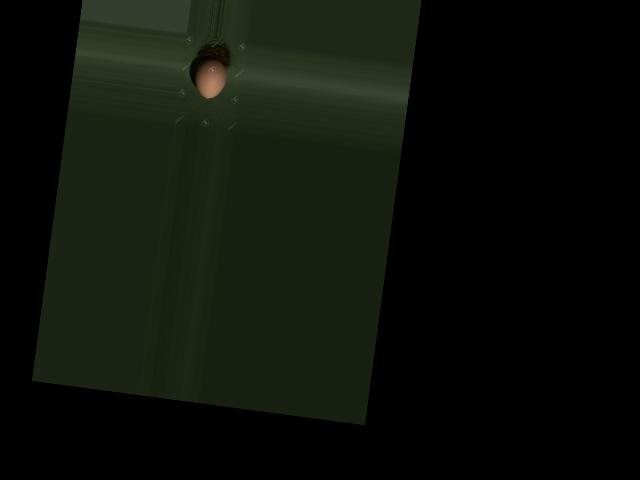egg: (192, 56, 228, 100)
